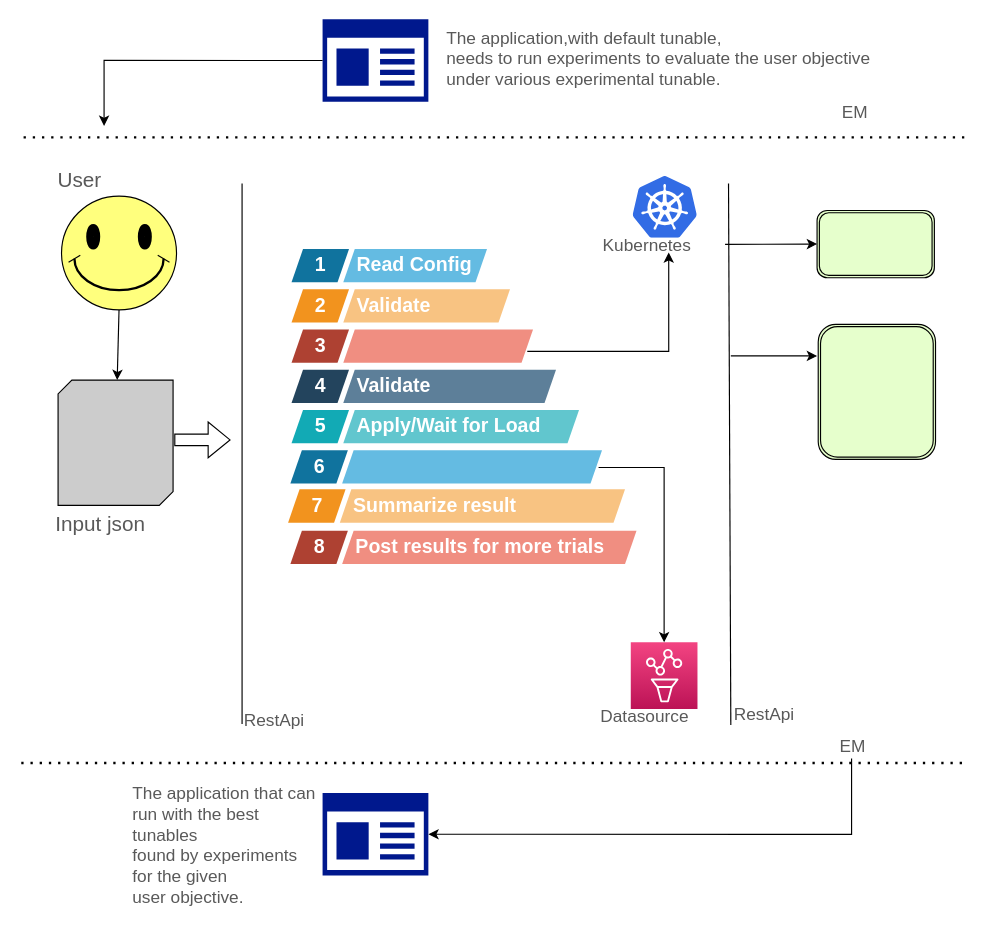
The diagram is 988 pixels wide and 940 high, and some of its shapes have lost their labels. The centre of each missing label's shape, as x and y in pixels:
"Deploy Config" goes at [437,345].
"Experiment Trials having tunables belongs to different layer." goes at [115,442].
"Monitor & Collect Metrics" goes at [471,466].
"View Experiment Summary metric result report" goes at [876,391].
"View Experiment trials status" goes at [875,243].
